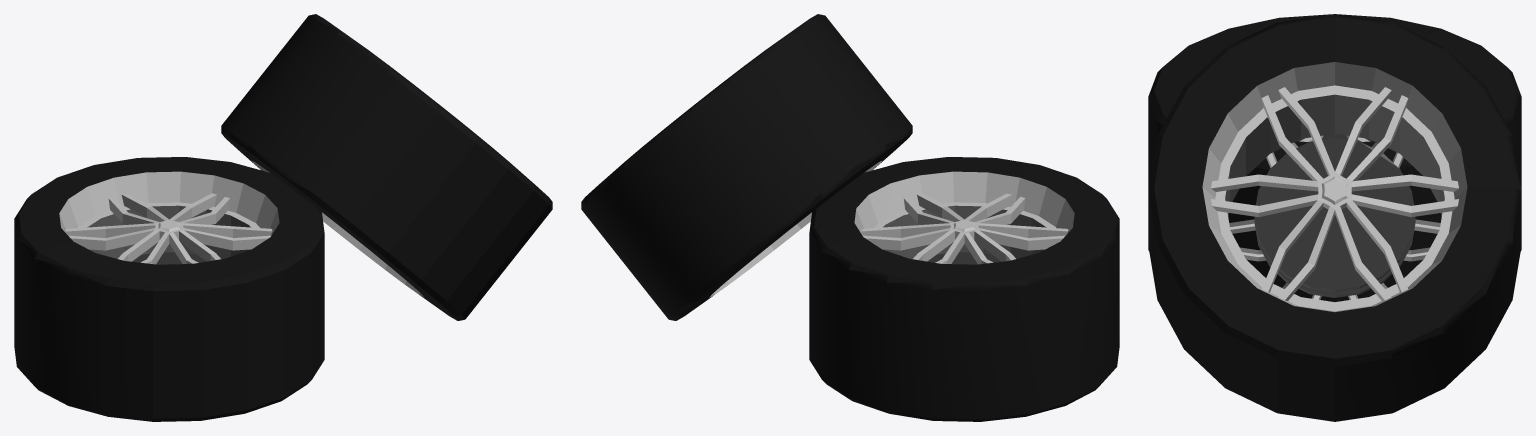
File: tire_2_T2.fbx
The picture shows the model from 3 angles, left to right: view 1: azimuth 30°, elevation 25°; view 2: azimuth 150°, elevation 25°; view 3: azimuth 270°, elevation 25°; orthographic projection. The views are drawn at different scales.
Visible parts, largest first — view 1: devida16; view 2: devida16; view 3: devida16.
Boxes of the visible parts, x1,y1,x2,y2 form: devida16: [14, 14, 552, 421]; devida16: [581, 14, 1119, 421]; devida16: [1148, 14, 1521, 421].
Bounding box in the file's own units: 88.75 × 50.52 × 48.81.
